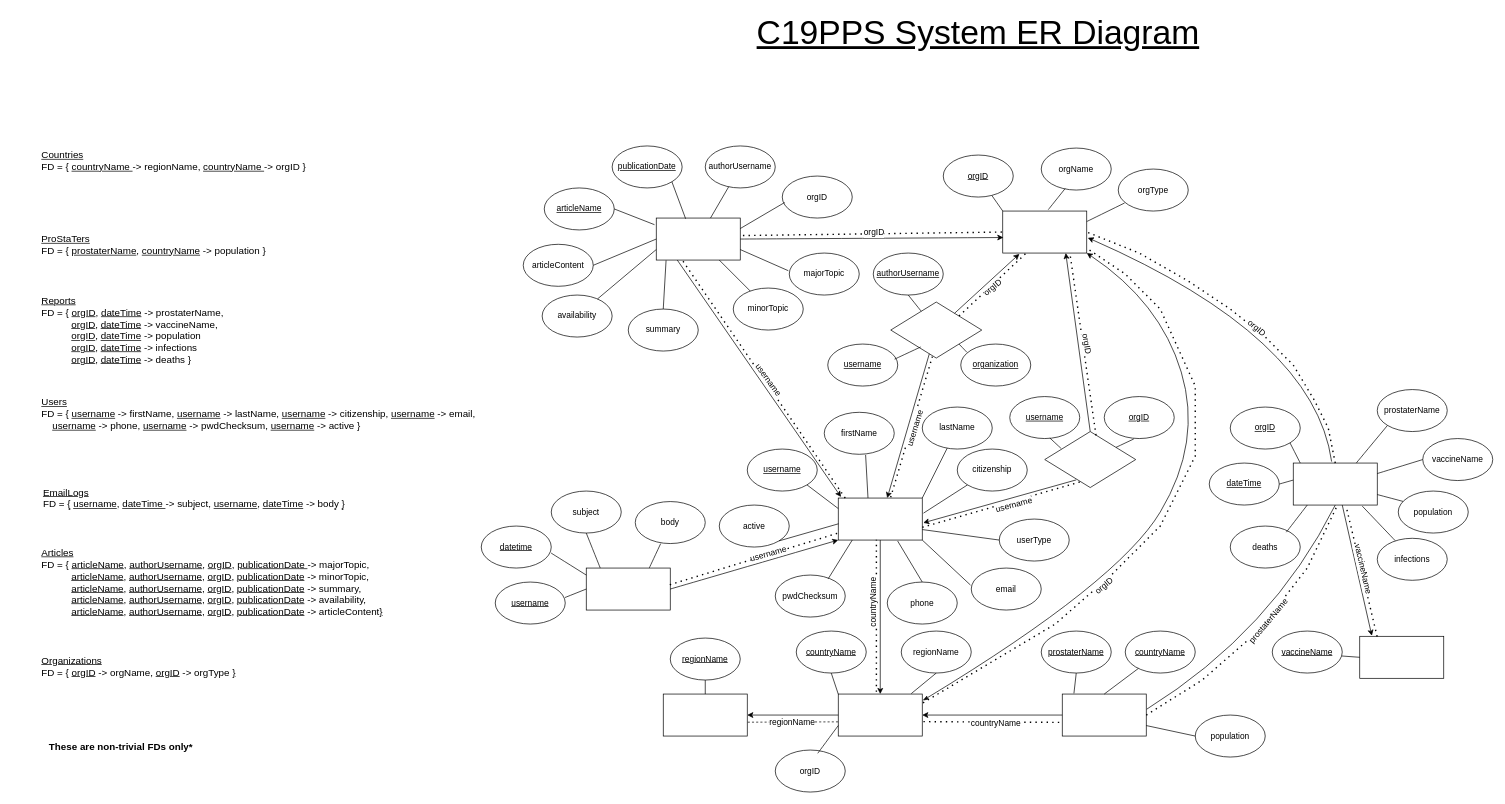
This 1505x804 diagram has some shape labels left out. Here are the shapes that lost their labels. From the top down, the centre of each, then its label:
[698,238]: Articles
[1044,231]: Organizations
[936,329]: Subscriptions
[1090,459]: Employees
[1335,483]: Reports
[880,518]: Users
[628,588]: Emails Logs
[1401,657]: Vaccines
[705,714]: Regions
[880,714]: Countries
[1104,714]: ProStaTer
